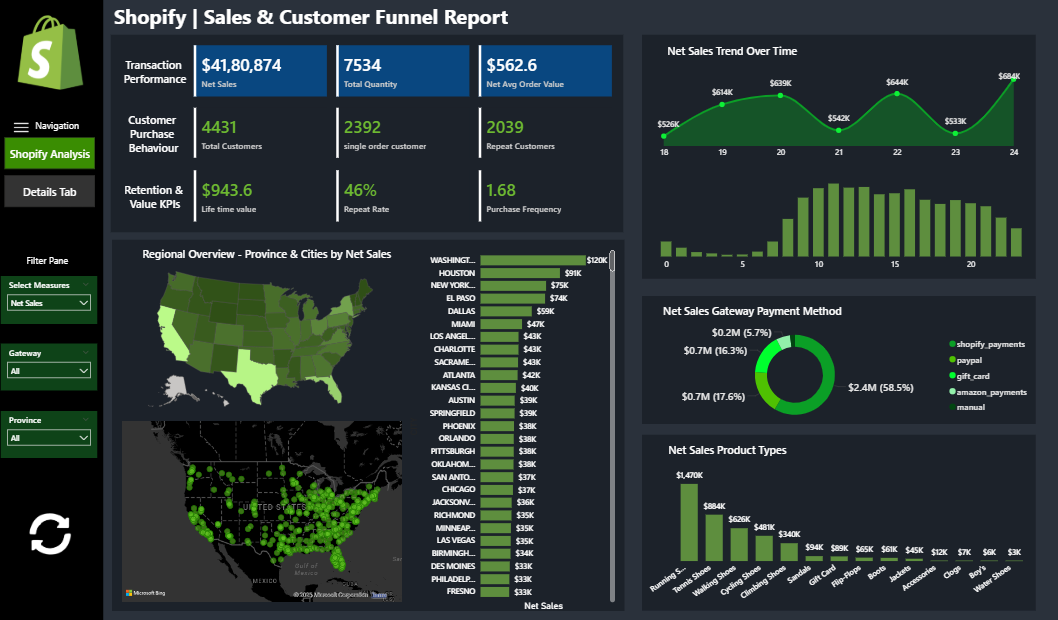

The dashboard page shown, as its layout file describes it:
{"tool":"powerbi","page":{"name":"Shopify Analysis","canvas":[1700,1000],"ordinal":0},"visuals":[{"type":"shape","box":[0,0,170,1000],"z":0},{"type":"textbox","box":[182.2,5.5,648.8,67.4],"z":1000},{"type":"shape","box":[182,62,820,316],"z":2000},{"type":"cardVisual","fields":{"Data":["shopify_sales.Net Sales","shopify_sales.Total Quantity","shopify_sales.Net Avg Order Value"]},"box":[310,74,680,92],"z":3000},{"type":"card","fields":{"Values":["shopify_sales.Transaction perf"]},"box":[194,86,118,70],"z":4000},{"type":"cardVisual","fields":{"Data":["shopify_sales.Total Customers","shopify_sales.single order customer","shopify_sales.Repeat Customers"]},"box":[310,174,680,90],"z":5000},{"type":"card","fields":{"Values":["shopify_sales.CPB"]},"box":[173.3,168.3,153.3,100],"z":6000},{"type":"cardVisual","fields":{"Data":["shopify_sales.Life time value","shopify_sales.Repeat Rate","shopify_sales.Purchase Frequency"]},"box":[310,274,680,92],"z":7000},{"type":"card","fields":{"Values":["shopify_sales.Retention_Values_KPIS"]},"box":[176,272,154,98],"z":8000},{"type":"shape","box":[184,390,820,594],"z":9000},{"type":"shapeMap","fields":{"Value":["shopify_sales.Net Sales"],"Category":["shopify_sales.Billing Address Province"]},"box":[194.3,424.3,455.7,250],"z":10000},{"type":"slicer","fields":{"Values":["Select Measures.Select Measures"]},"box":[6.7,447.4,154.2,77.1],"z":11000},{"type":"map","fields":{"Category":["shopify_sales.Location"]},"box":[195.7,675.7,457.1,298.6],"z":12000},{"type":"clusteredBarChart","fields":{"Y":["shopify_sales.Net Sales"],"Category":["shopify_sales.CITY"]},"box":[653.3,393.3,340,595],"z":13000},{"type":"card","fields":{"Values":["shopify_sales.Map Title"]},"box":[184.3,388.7,496,51.9],"z":14000},{"type":"shape","box":[1032.2,62,630,390.4],"z":15000},{"type":"areaChart","fields":{"Y":["shopify_sales.Net Sales"],"Category":["shopify_sales.Day"]},"box":[1052.3,110.6,589.8,159.2],"z":16000},{"type":"columnChart","fields":{"Y":["shopify_sales.Net Sales"],"Category":["shopify_sales.HOUR"]},"box":[1055.6,256.4,589.8,191],"z":17000},{"type":"card","fields":{"Values":["shopify_sales.Trend Title"]},"box":[1017.1,63.7,316.7,51.9],"z":18000},{"type":"shape","box":[1032.2,479.2,630,205],"z":19000},{"type":"donutChart","fields":{"Y":["shopify_sales.Net Sales"],"Category":["shopify_sales.Gateway"]},"box":[1025.5,519.4,636.7,172.6],"z":20000},{"type":"card","fields":{"Values":["shopify_sales.Gateway Title"]},"box":[997,479.2,425.6,51.9],"z":21000},{"type":"shape","box":[1032.2,702.1,630,281.5],"z":21001},{"type":"columnChart","fields":{"Category":["shopify_sales.Product Type"],"Y":["shopify_sales.Net Sales"]},"box":[1037.2,740.6,625,241.3],"z":21002},{"type":"card","fields":{"Values":["shopify_sales.Product title"]},"box":[956.8,702.1,425.6,51.9],"z":21003},{"type":"slicer","fields":{"Values":["shopify_sales.Gateway"]},"box":[6.7,556.3,154.2,75.4],"z":21004},{"type":"slicer","fields":{"Values":["shopify_sales.Billing Address Province"]},"box":[6.7,663.6,154.2,75.4],"z":21005},{"type":"image","box":[21.8,26.8,127.3,129],"z":21006},{"type":"pageNavigator","box":[11.7,226.2,145.8,113.9],"z":21007},{"type":"image","box":[38.5,819.4,93.8,82.1],"z":21008},{"type":"image","box":[10.1,191,57,36.9],"z":21009},{"type":"textbox","box":[55.3,192.7,95.5,38.5],"z":21010},{"type":"textbox","box":[41.9,408.8,90.5,31.8],"z":21011}]}

Visuals, with their boxes on the page's 1700x1000 design canvas (x1, y1, x2, y2). These are canvas units, not pixel positions in the 1058x620 screenshot, which may show the page scaled, cropped or inside an application window:
shape: box(0, 0, 170, 1000)
textbox: box(182, 6, 831, 73)
shape: box(182, 62, 1002, 378)
cardVisual - shopify_sales.Net Sales x shopify_sales.Total Quantity: box(310, 74, 990, 166)
card - shopify_sales.Transaction perf: box(194, 86, 312, 156)
cardVisual - shopify_sales.Total Customers x shopify_sales.single order customer: box(310, 174, 990, 264)
card - shopify_sales.CPB: box(173, 168, 327, 268)
cardVisual - shopify_sales.Life time value x shopify_sales.Repeat Rate: box(310, 274, 990, 366)
card - shopify_sales.Retention_Values_KPIS: box(176, 272, 330, 370)
shape: box(184, 390, 1004, 984)
shapeMap - shopify_sales.Net Sales x shopify_sales.Billing Address Province: box(194, 424, 650, 674)
slicer - Select Measures.Select Measures: box(7, 447, 161, 524)
map - shopify_sales.Location: box(196, 676, 653, 974)
clusteredBarChart - shopify_sales.Net Sales x shopify_sales.CITY: box(653, 393, 993, 988)
card - shopify_sales.Map Title: box(184, 389, 680, 441)
shape: box(1032, 62, 1662, 452)
areaChart - shopify_sales.Net Sales x shopify_sales.Day: box(1052, 111, 1642, 270)
columnChart - shopify_sales.Net Sales x shopify_sales.HOUR: box(1056, 256, 1645, 447)
card - shopify_sales.Trend Title: box(1017, 64, 1334, 116)
shape: box(1032, 479, 1662, 684)
donutChart - shopify_sales.Net Sales x shopify_sales.Gateway: box(1026, 519, 1662, 692)
card - shopify_sales.Gateway Title: box(997, 479, 1423, 531)
shape: box(1032, 702, 1662, 984)
columnChart - shopify_sales.Product Type x shopify_sales.Net Sales: box(1037, 741, 1662, 982)
card - shopify_sales.Product title: box(957, 702, 1382, 754)
slicer - shopify_sales.Gateway: box(7, 556, 161, 632)
slicer - shopify_sales.Billing Address Province: box(7, 664, 161, 739)
image: box(22, 27, 149, 156)
pageNavigator: box(12, 226, 158, 340)
image: box(38, 819, 132, 902)
image: box(10, 191, 67, 228)
textbox: box(55, 193, 151, 231)
textbox: box(42, 409, 132, 441)
